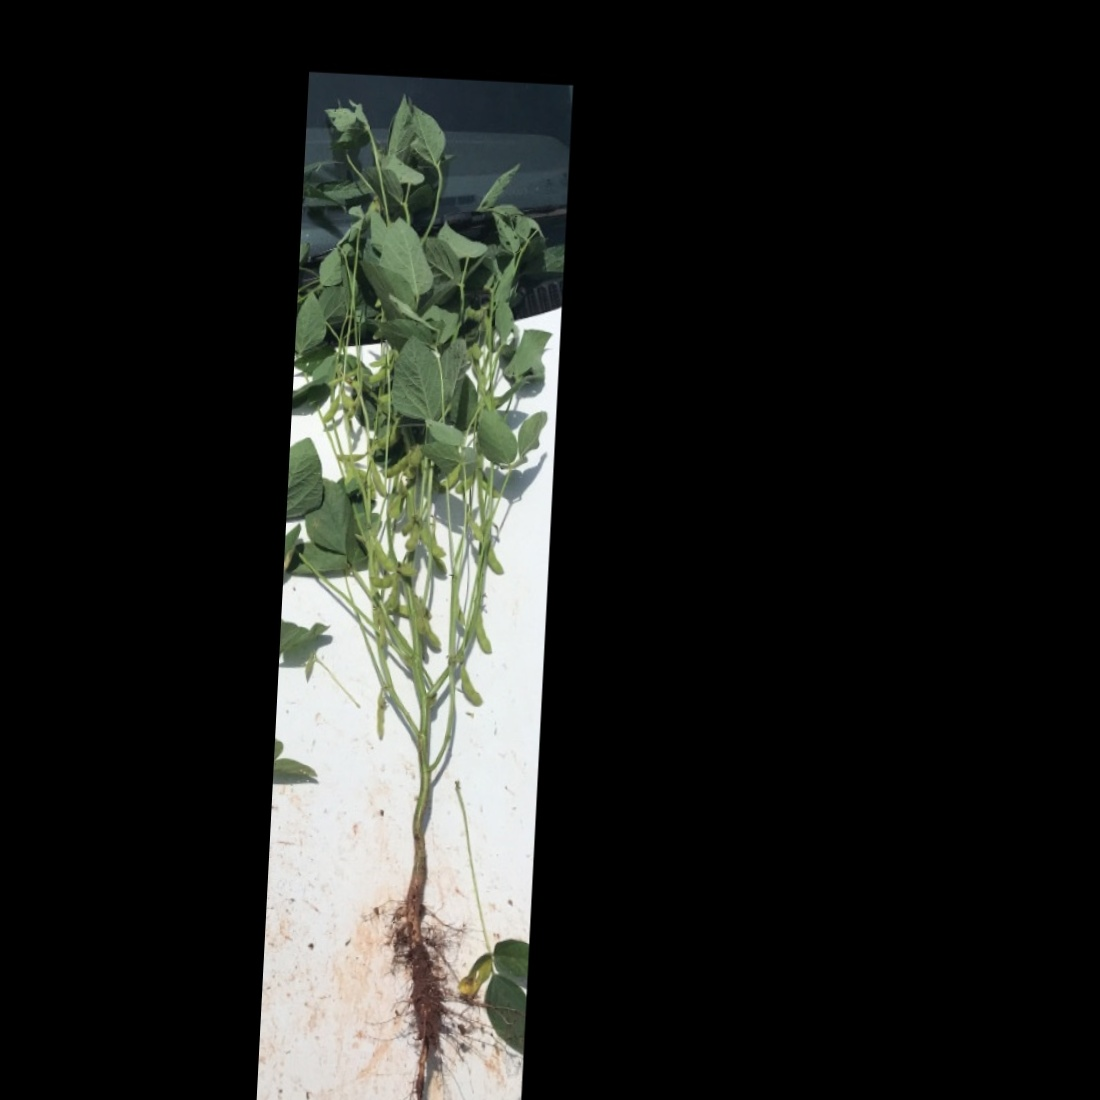pod: (454, 662, 493, 713), (471, 605, 497, 659), (368, 461, 391, 504), (485, 540, 508, 578), (437, 463, 463, 495), (320, 392, 338, 428), (364, 573, 399, 590)
soy: (276, 100, 562, 1077)
